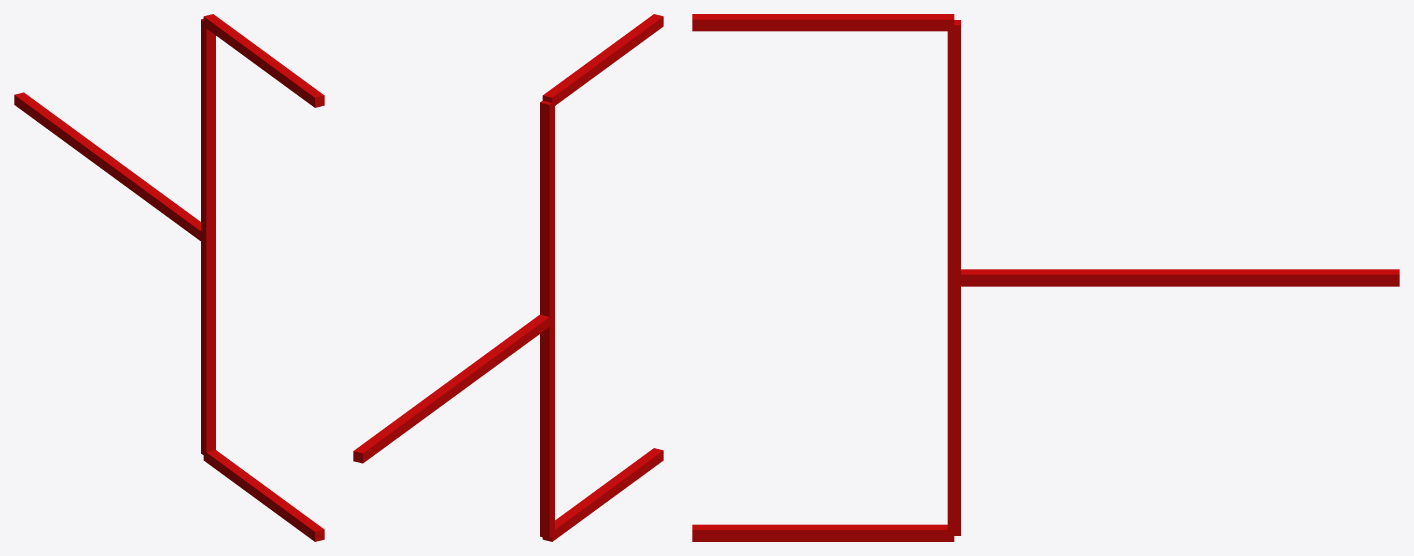
File: grasp_simplified.obj
3 renders of one model, left to right at view 1: azimuth 30°, elevation 25°; view 2: azimuth 150°, elevation 25°; view 3: azimuth 270°, elevation 25°, orthographic. The views are drawn at different scales.
Size of the model in its own units: 0.002 by 0.088 by 0.108.
